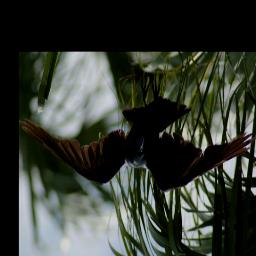Crow: (20, 78, 254, 194)
